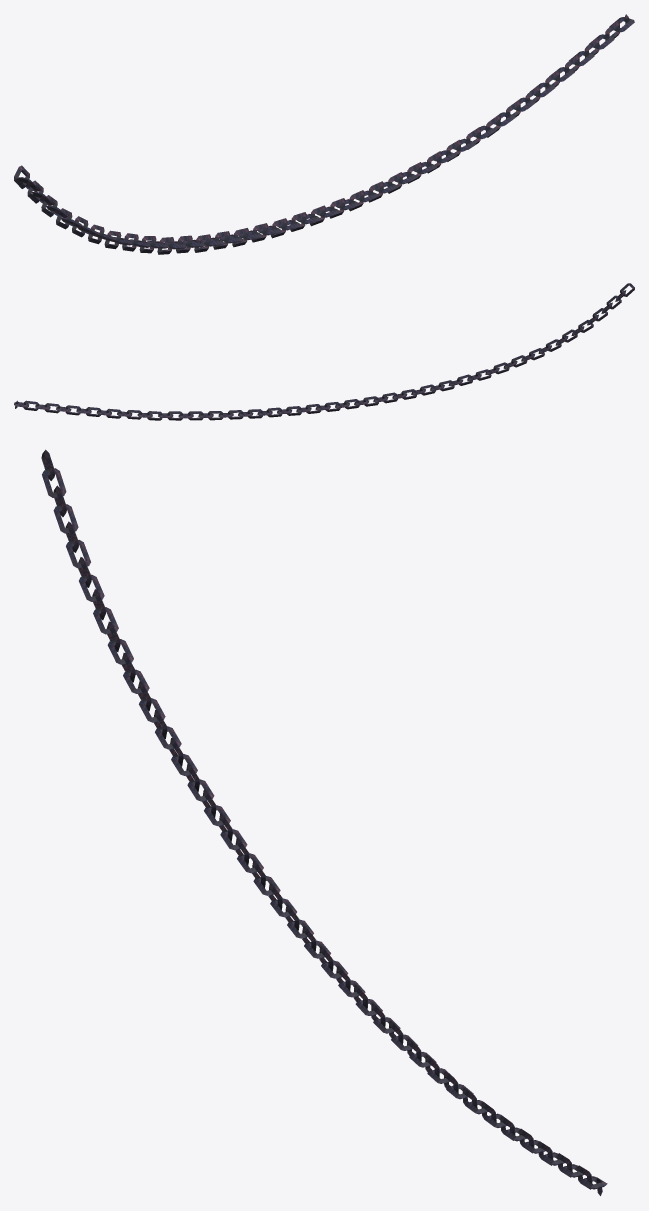
File: flame_chain_002.fbx
3 views of the same model, one above another, from view 1: azimuth 30°, elevation 25°; view 2: azimuth 150°, elevation 25°; view 3: azimuth 270°, elevation 25° (orthographic). The views are drawn at different scales.
Parts seen in each view (by area): view 1: flame_chain_002; view 2: flame_chain_002; view 3: flame_chain_002.
Part boxes in pixels (x1,y1,x2,y2): flame_chain_002: (14, 14, 634, 254); flame_chain_002: (14, 283, 634, 420); flame_chain_002: (41, 449, 607, 1195).
Bounding box in the file's own units: 41.44 × 12.3 × 21.05.
